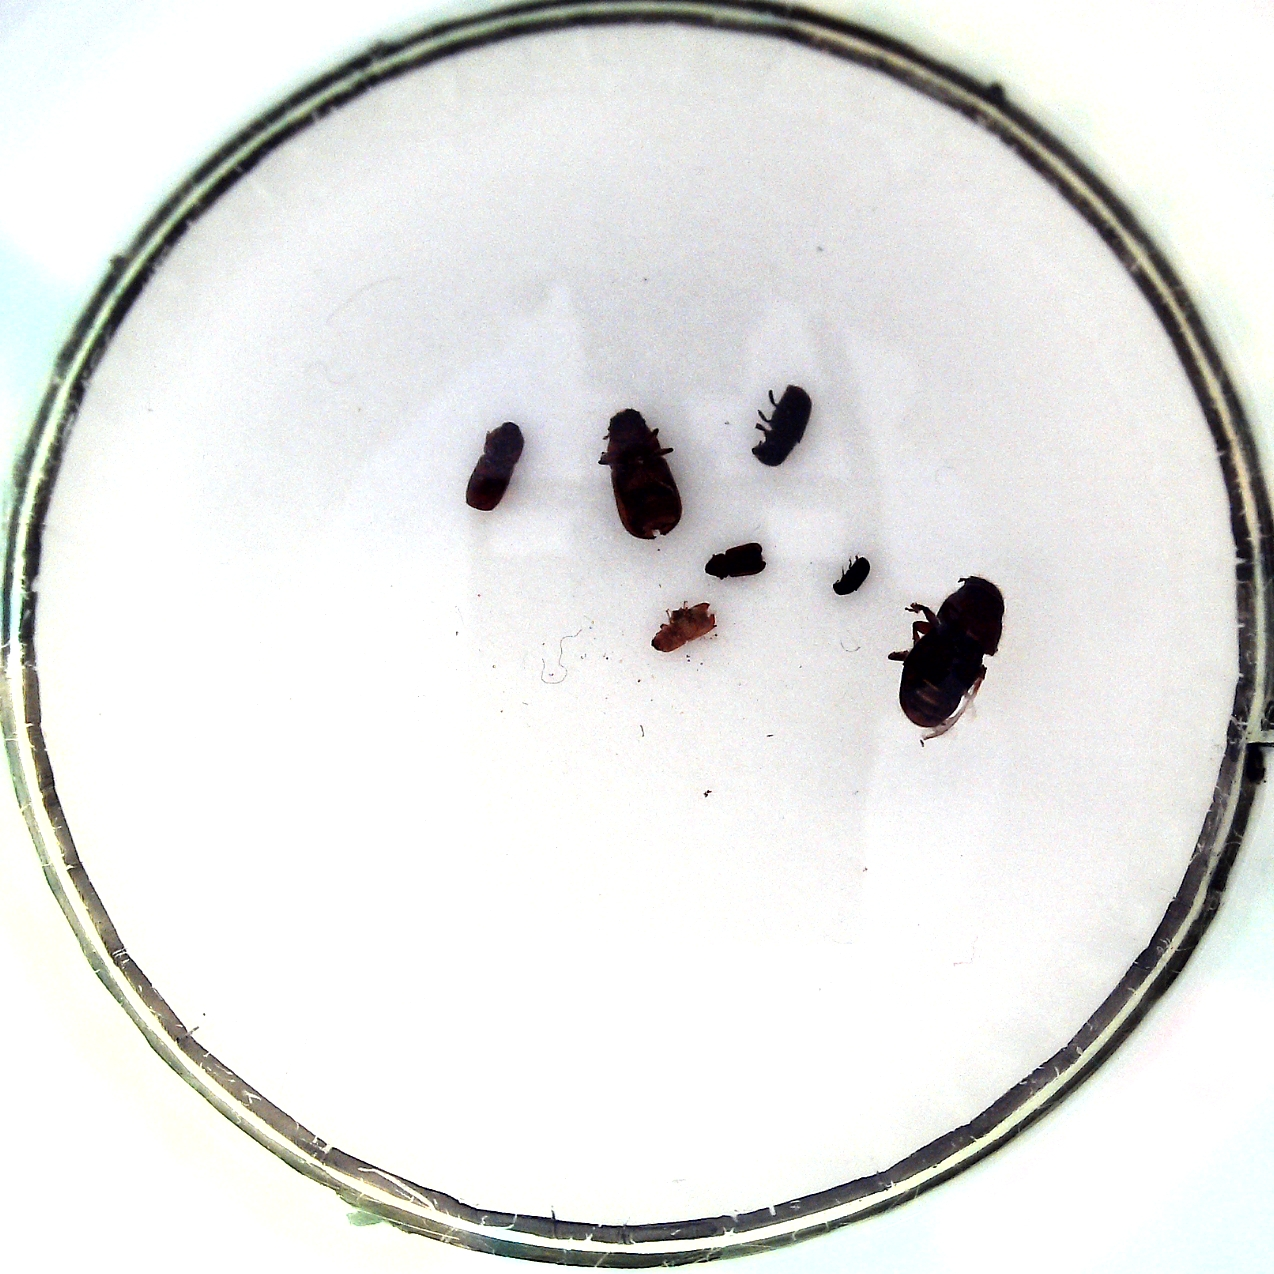Leconte: (900, 576, 1005, 729), (605, 408, 682, 541)
acuminatus: (831, 556, 870, 595)
armandi: (751, 384, 812, 466)
coleoptera: (650, 602, 715, 653), (703, 542, 765, 577)
linnaeus: (464, 422, 525, 511)
